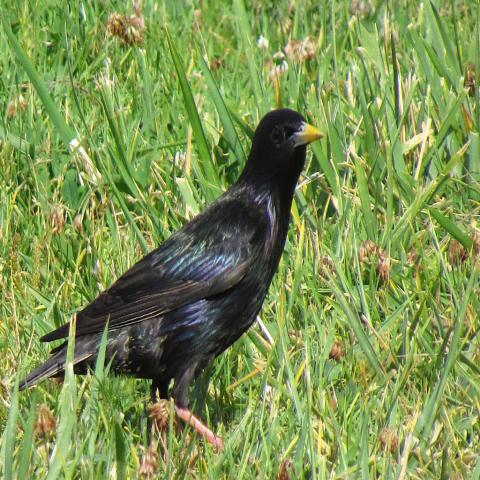bird: (17, 104, 325, 452)
